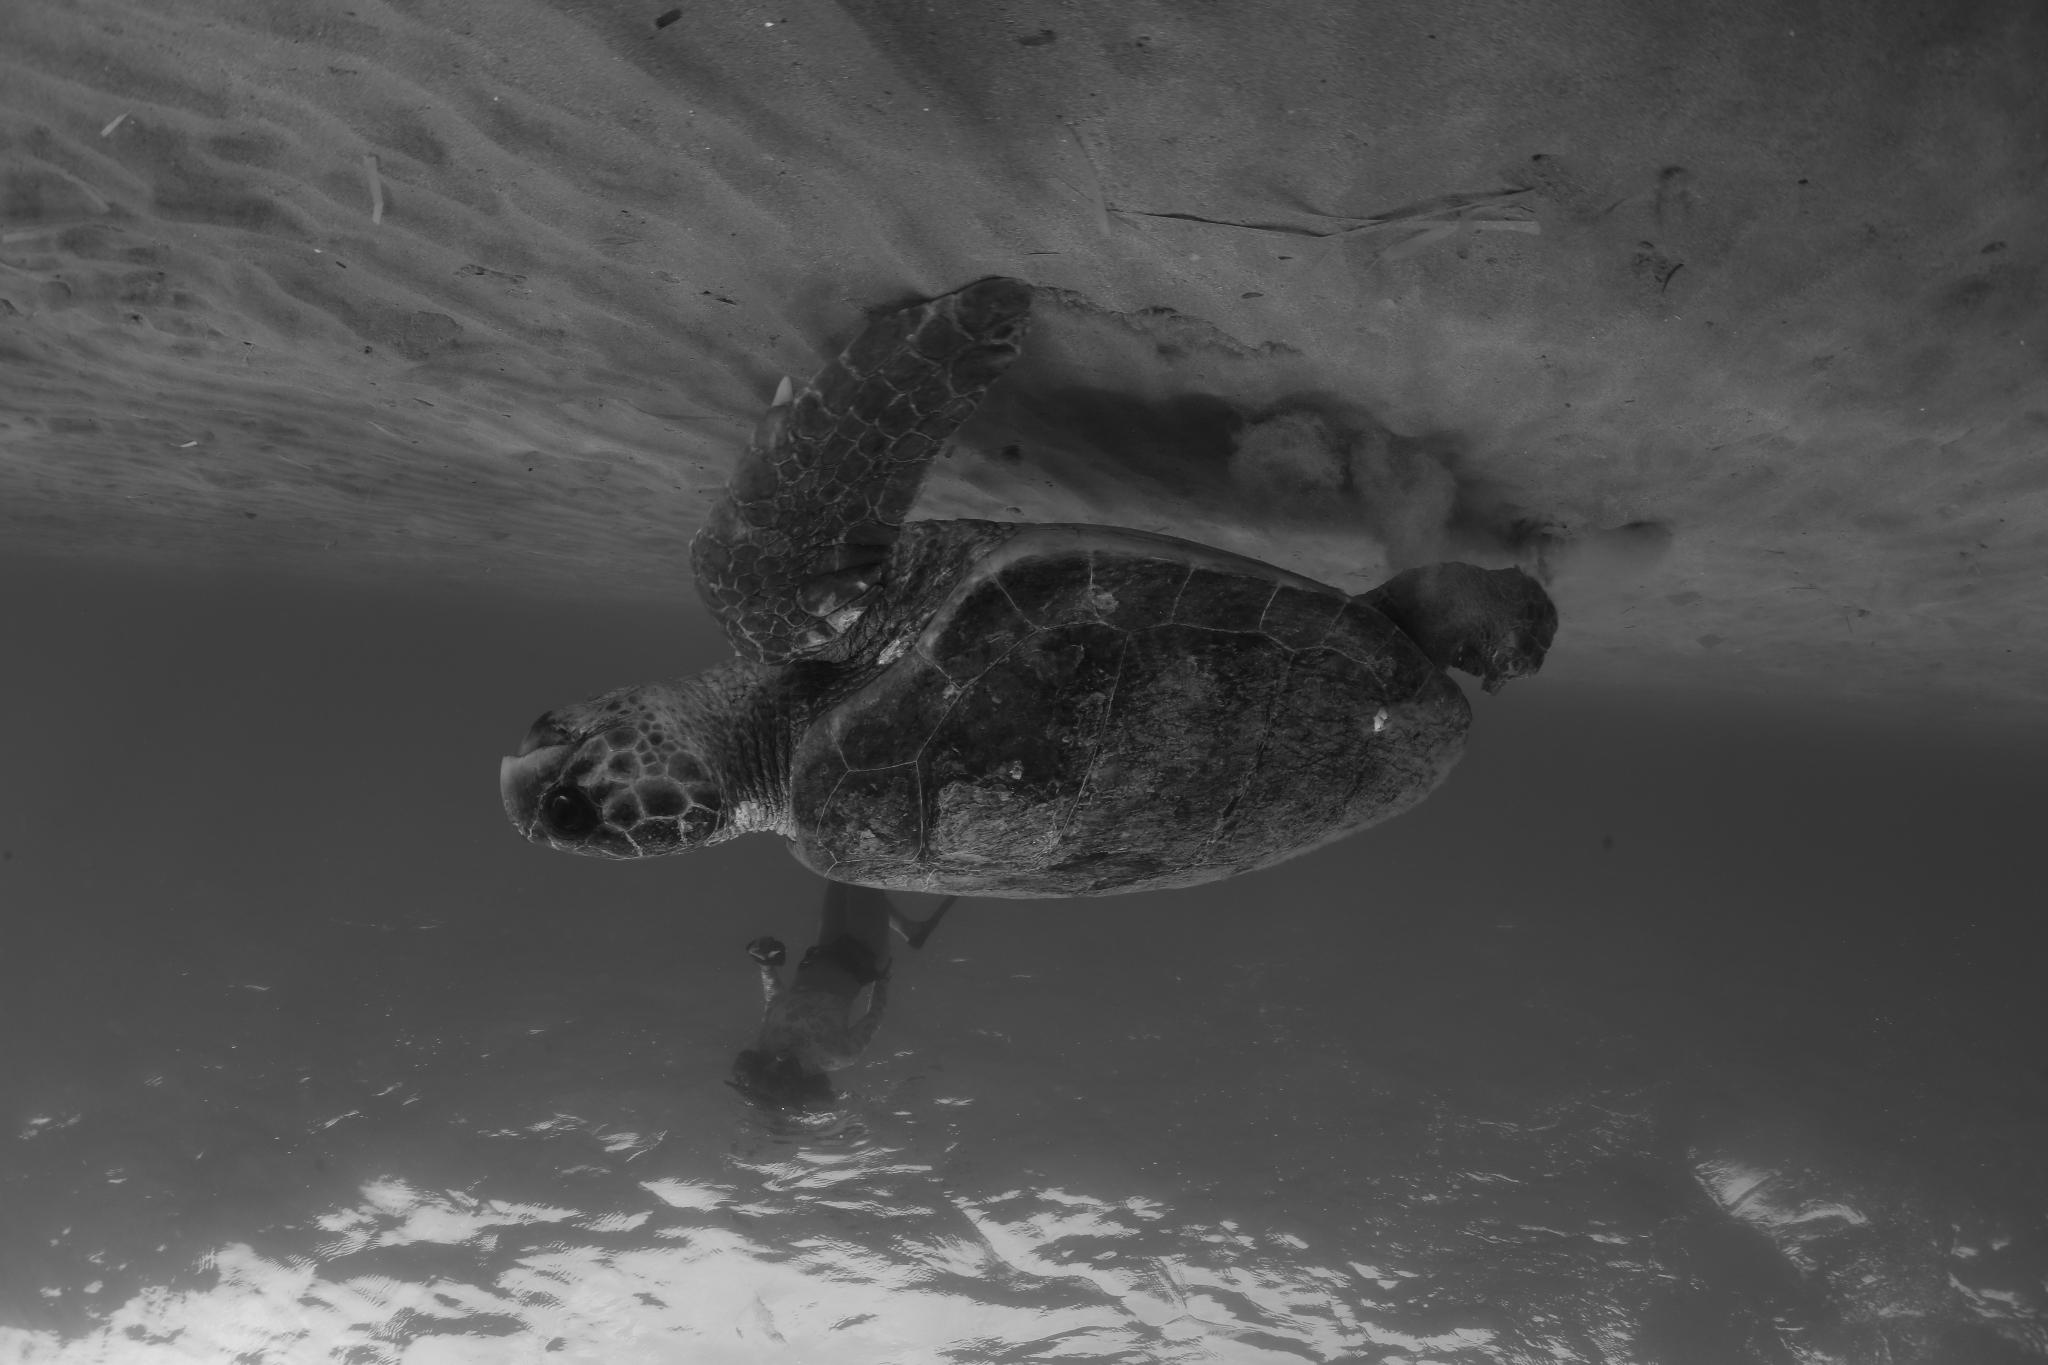Head: (501, 668, 741, 859)
